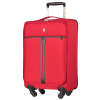luggage: (21, 2, 78, 99)
